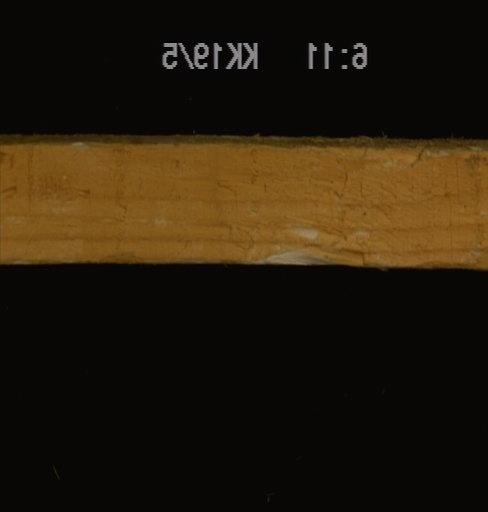wave: (248, 219, 376, 265)
